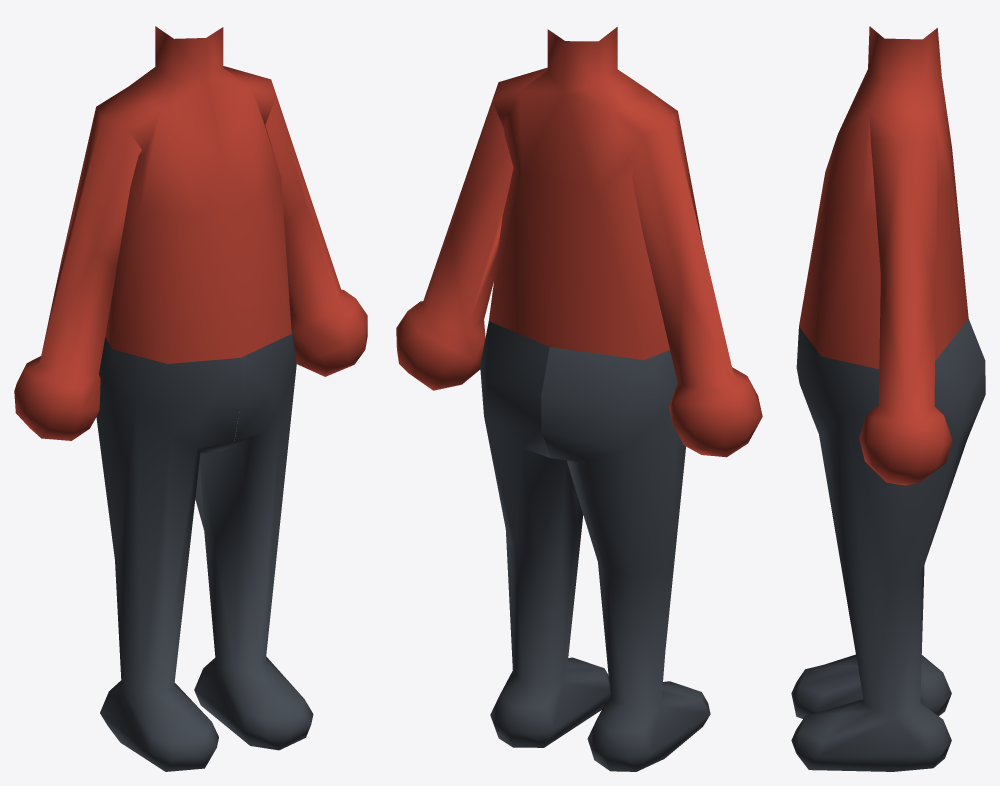
The model's file is Male2.gltf.
3 views of the same model, side by side, from view 1: azimuth 30°, elevation 25°; view 2: azimuth 150°, elevation 25°; view 3: azimuth 270°, elevation 25° (orthographic). The views are drawn at different scales.
Visible parts, largest first — view 1: シャツ_Mesh_0002.rip_mesh0000.003, ズボン_Mesh_0002.rip_mesh0000.005, ズボン_Mesh_0002.rip_mesh0000.001; view 2: シャツ_Mesh_0002.rip_mesh0000.003, ズボン_Mesh_0002.rip_mesh0000.005, ズボン_Mesh_0002.rip_mesh0000.001; view 3: シャツ_Mesh_0002.rip_mesh0000.003, ズボン_Mesh_0002.rip_mesh0000.001, ズボン_Mesh_0002.rip_mesh0000.005.
Part boxes in pixels (box(x1,y1,x2,y2)): シャツ_Mesh_0002.rip_mesh0000.003: box(14, 26, 367, 440); ズボン_Mesh_0002.rip_mesh0000.005: box(96, 337, 241, 771); ズボン_Mesh_0002.rip_mesh0000.001: box(194, 318, 313, 750); シャツ_Mesh_0002.rip_mesh0000.003: box(396, 27, 762, 457); ズボン_Mesh_0002.rip_mesh0000.005: box(541, 347, 710, 771); ズボン_Mesh_0002.rip_mesh0000.001: box(480, 321, 610, 747); シャツ_Mesh_0002.rip_mesh0000.003: box(799, 26, 968, 485); ズボン_Mesh_0002.rip_mesh0000.001: box(791, 319, 985, 771); ズボン_Mesh_0002.rip_mesh0000.005: box(791, 654, 951, 718).
Bounding box in the file's own units: 0.6426 × 1.25 × 0.3101.
Materials: 2 (2 with a texture image).
